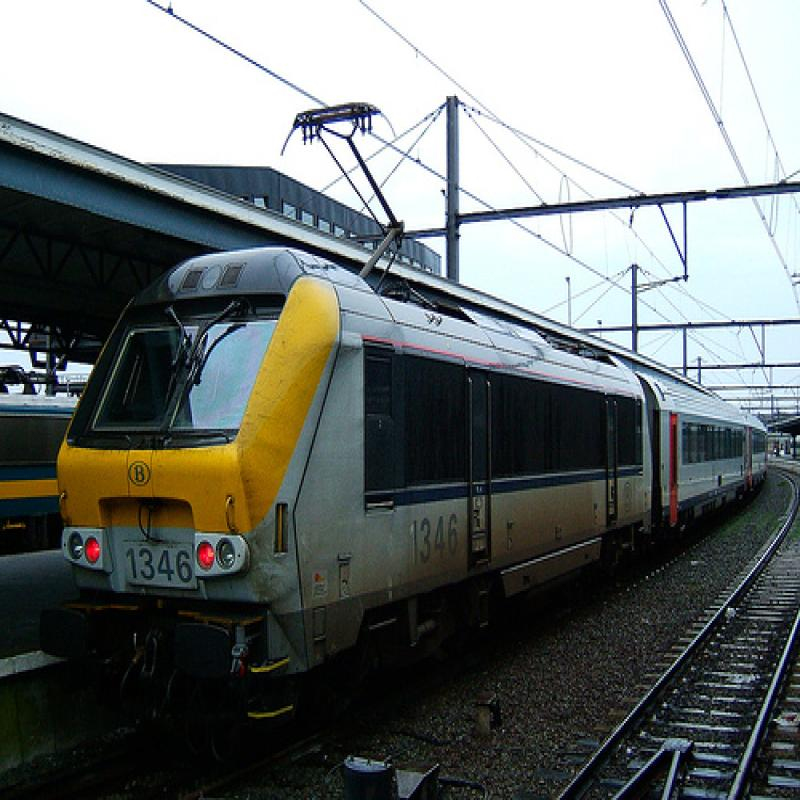train: (35, 246, 769, 767), (1, 394, 75, 556)
